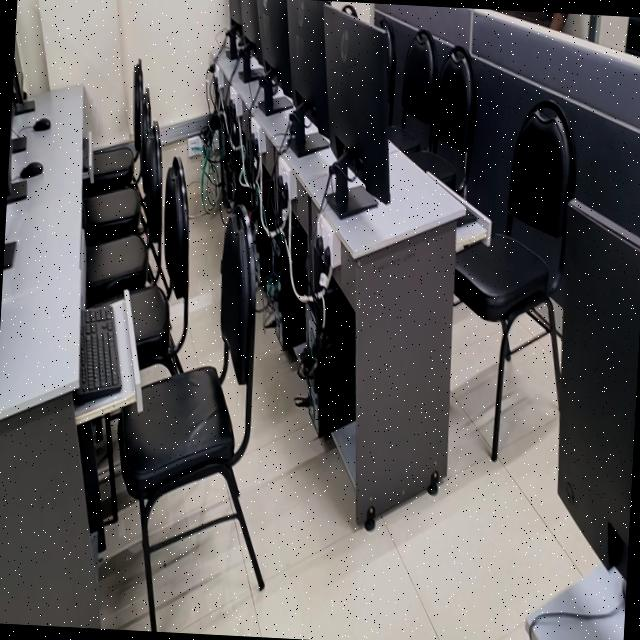Chair: (120, 206, 263, 632), (454, 100, 575, 460), (85, 121, 162, 304), (131, 157, 188, 375), (85, 83, 151, 241), (408, 46, 475, 195), (82, 57, 140, 187), (389, 29, 436, 151), (379, 16, 395, 125)
Cpu: (305, 281, 355, 439), (271, 220, 308, 352), (249, 170, 276, 286)
Keyboard: (73, 302, 120, 403), (81, 136, 87, 177)
Monitor: (556, 201, 640, 582), (323, 5, 389, 217), (286, 0, 329, 154), (256, 0, 290, 114), (6, 129, 27, 199), (13, 28, 27, 99), (240, 0, 259, 46), (2, 242, 15, 269), (228, 0, 241, 23)
Mouse: (19, 161, 42, 178), (32, 117, 50, 130)
